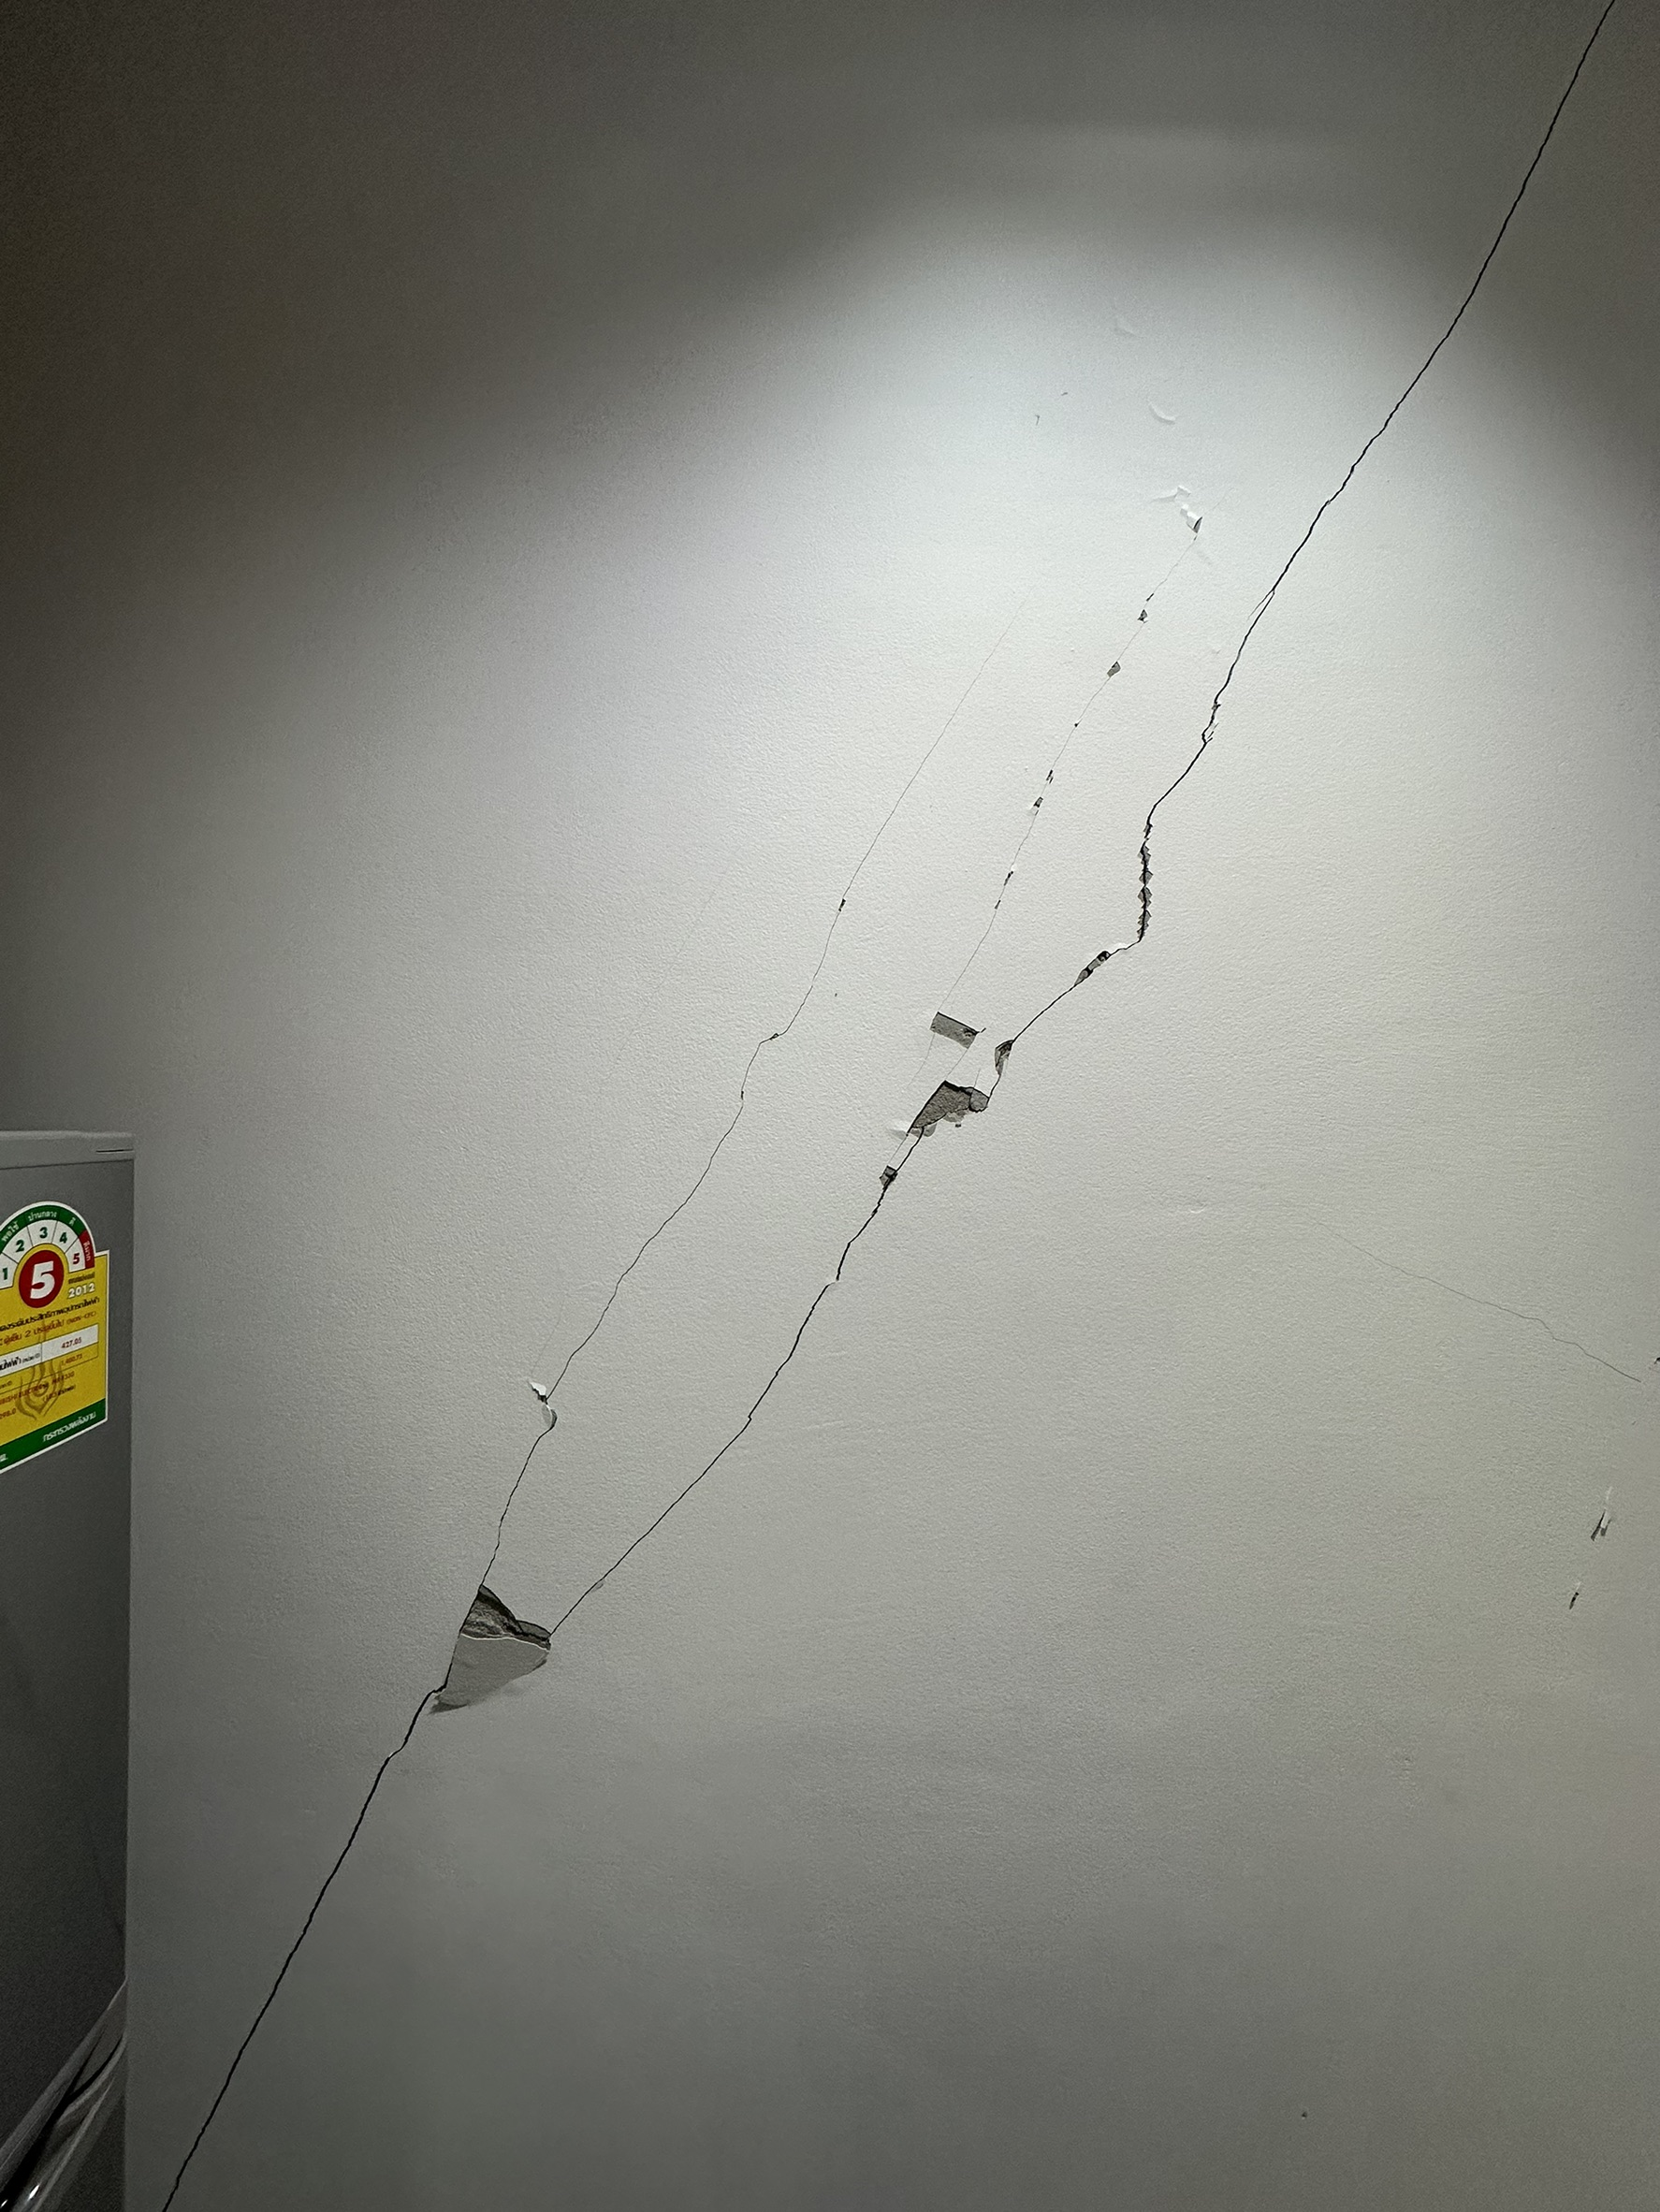Medium: (366, 476, 1365, 1874)
